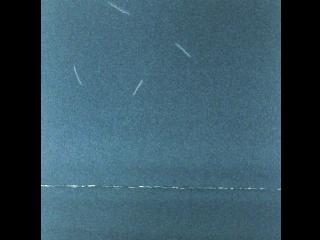crack: (40, 173, 281, 201)
scratch: (169, 38, 196, 64), (128, 73, 148, 101), (102, 0, 133, 18), (68, 63, 88, 89)
